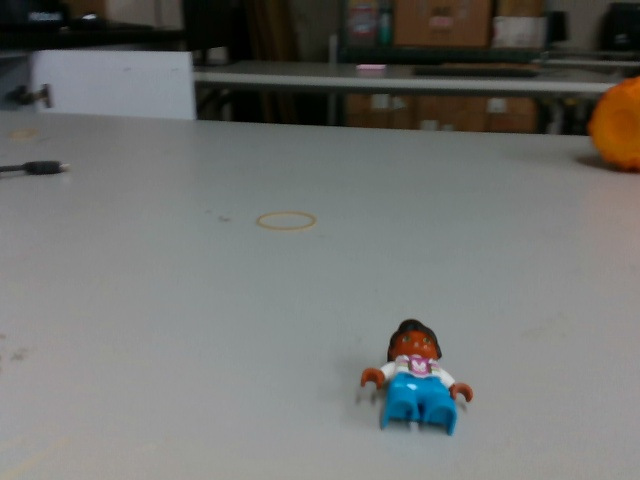people: (359, 316, 477, 436)
